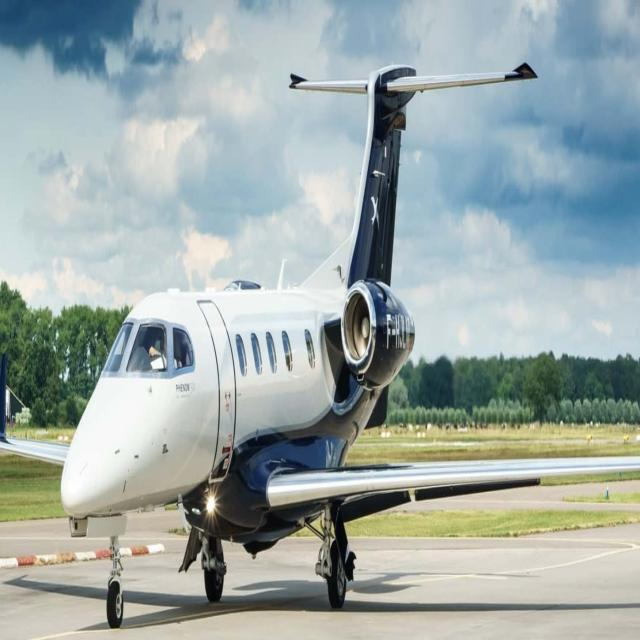jet: (16, 0, 563, 640)
